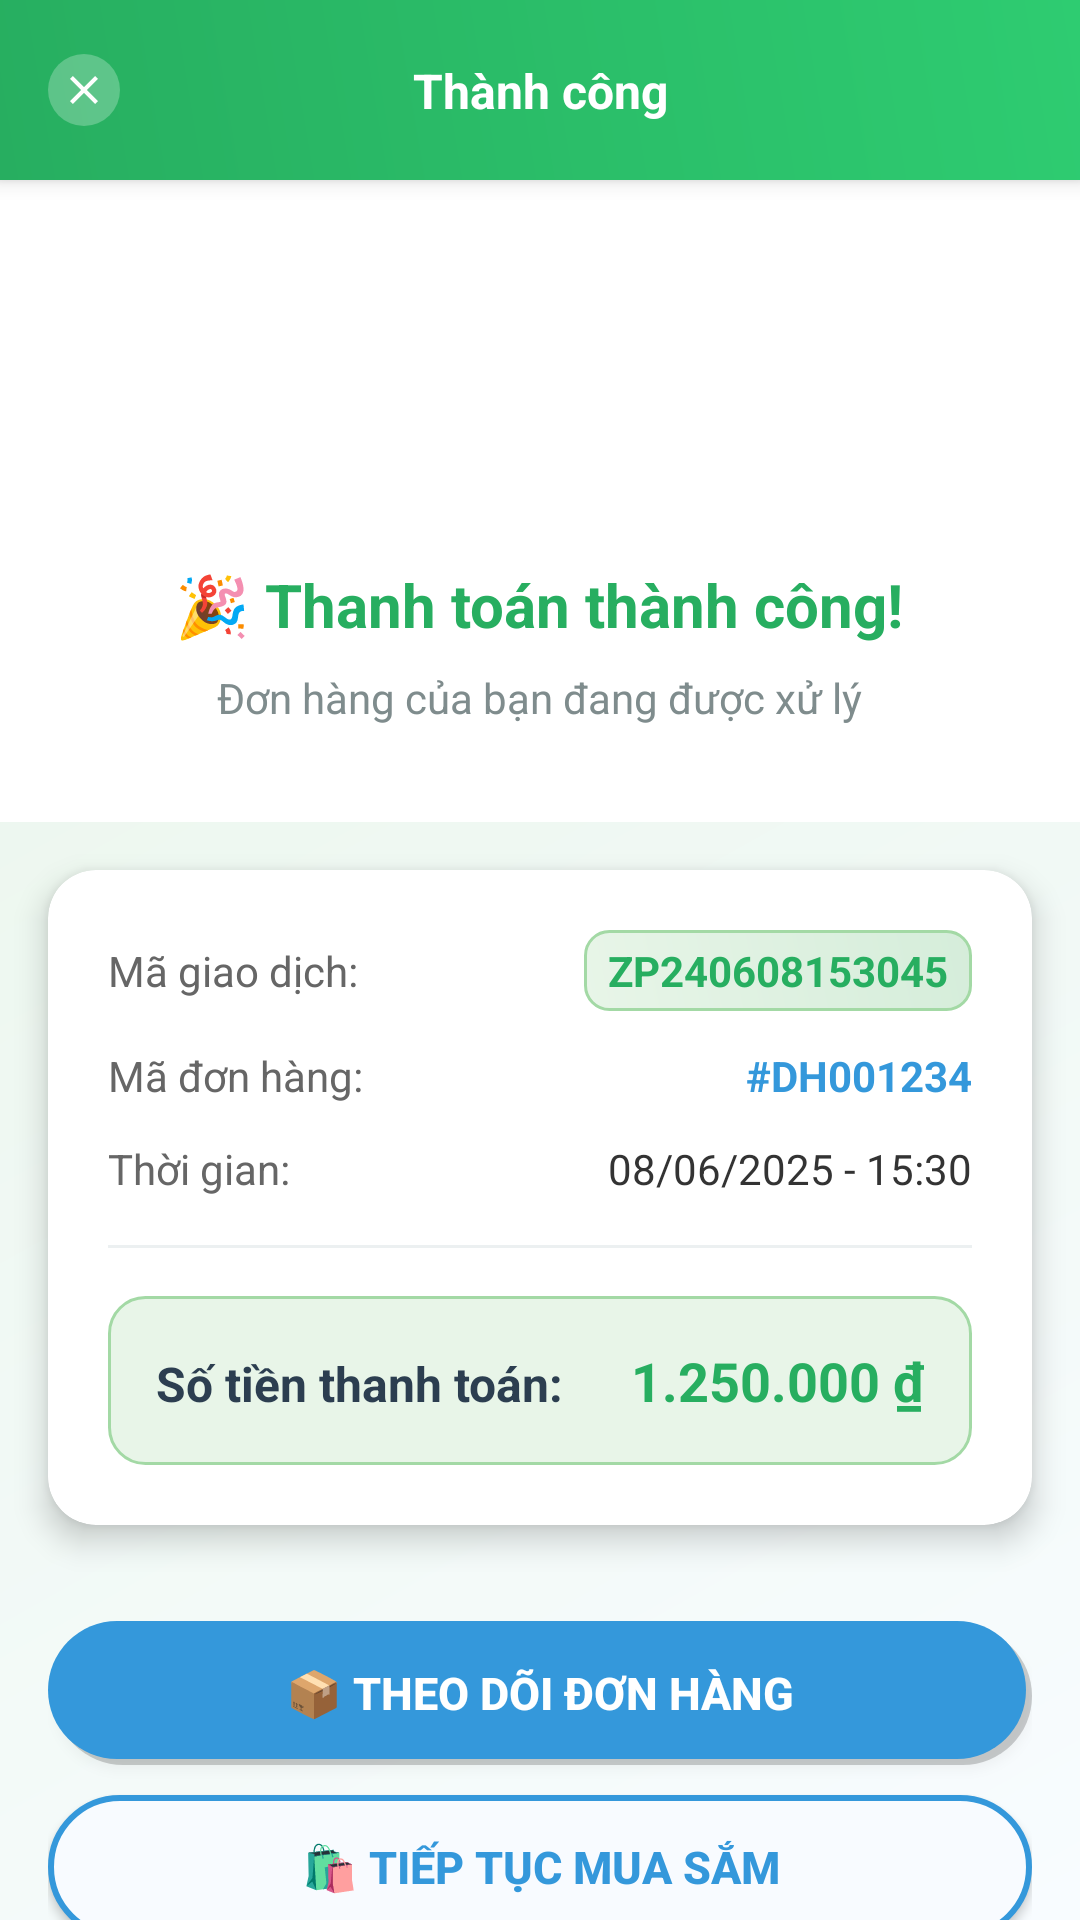

Named icons in this screenshot (1080 × 1920) and their bounding boxes, {"x1": x1, "y1": y1, "x2": x2, "y2": y2}:
close: {"x1": 48, "y1": 54, "x2": 120, "y2": 126}
